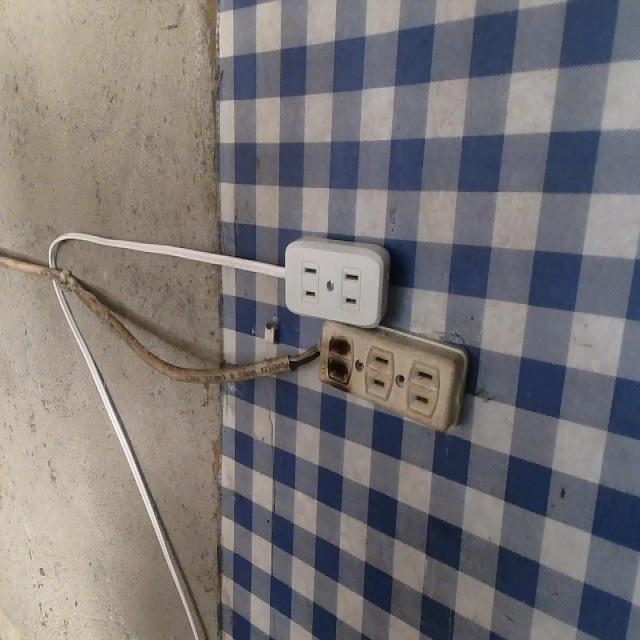-: (312, 319, 364, 401)
